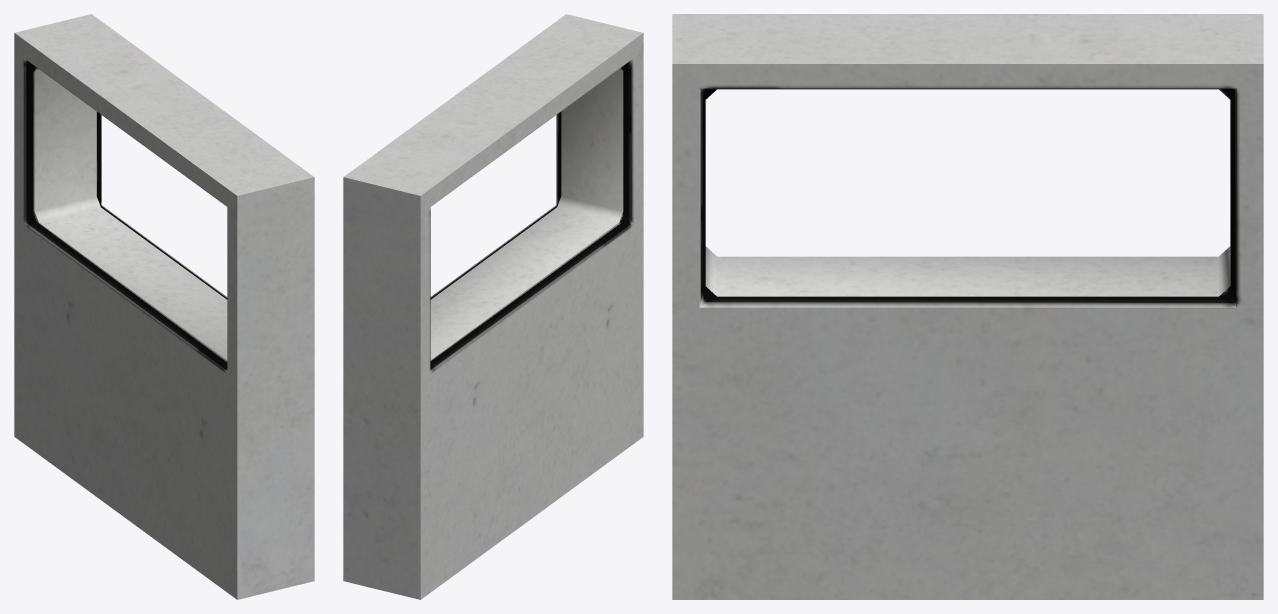
File: mado2.fbx
The picture shows the model from 3 angles, left to right: view 1: azimuth 30°, elevation 25°; view 2: azimuth 150°, elevation 25°; view 3: azimuth 270°, elevation 25°; orthographic projection. The views are drawn at different scales.
Parts seen in each view (by area): view 1: Plane; view 2: Plane; view 3: Plane.
Part boxes in pixels (x1,y1,x2,y2): Plane: (14, 14, 314, 599); Plane: (343, 14, 643, 599); Plane: (672, 14, 1263, 599).
Size of the model in its own units: 0.4 by 2 by 2.
